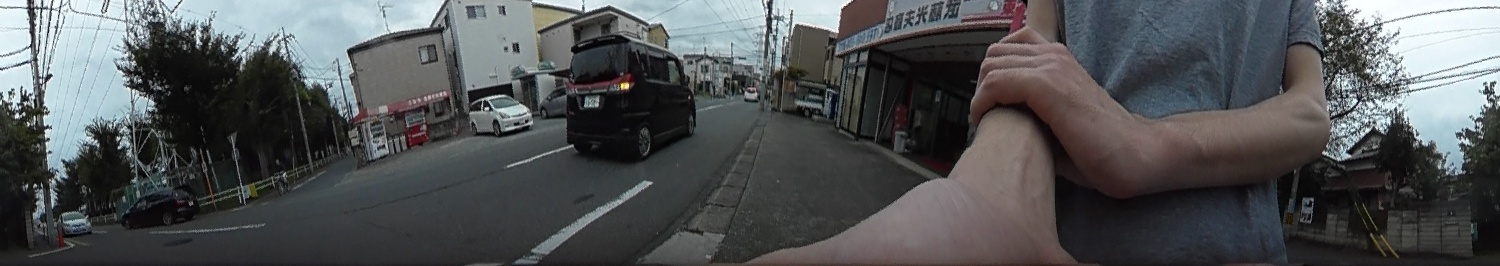difficult_person: (272, 155, 289, 190)
